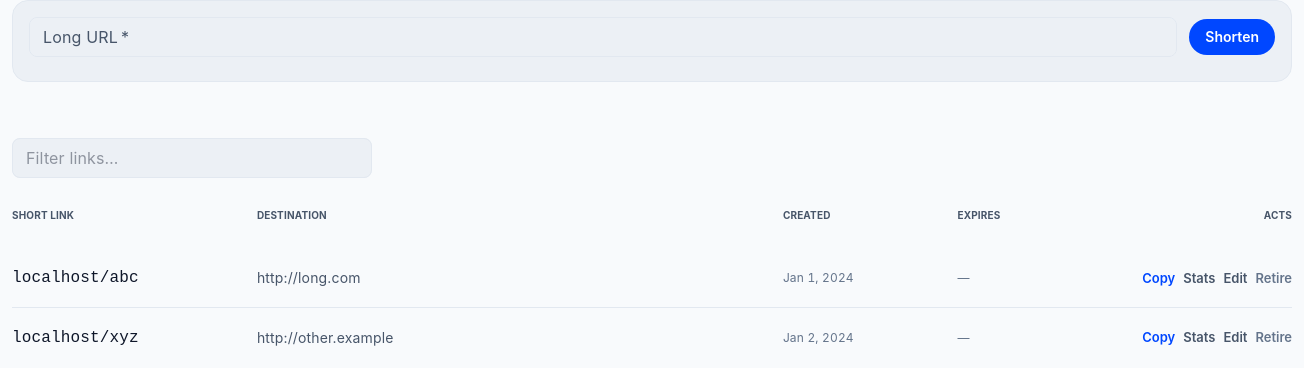
Test: DashboardPage › narrowing › narrows the set live as a fragment is entered, without a submit
Expected: the element with test id "link-row-abc" is shown, [12,265,1292,291]
Expected: the element with test id "link-row-xyz" is shown, [12,324,1292,351]
Type "LONG" into the field with test id "narrow-links".
click(192, 158); type("LONG")  # box [12,138,372,178]
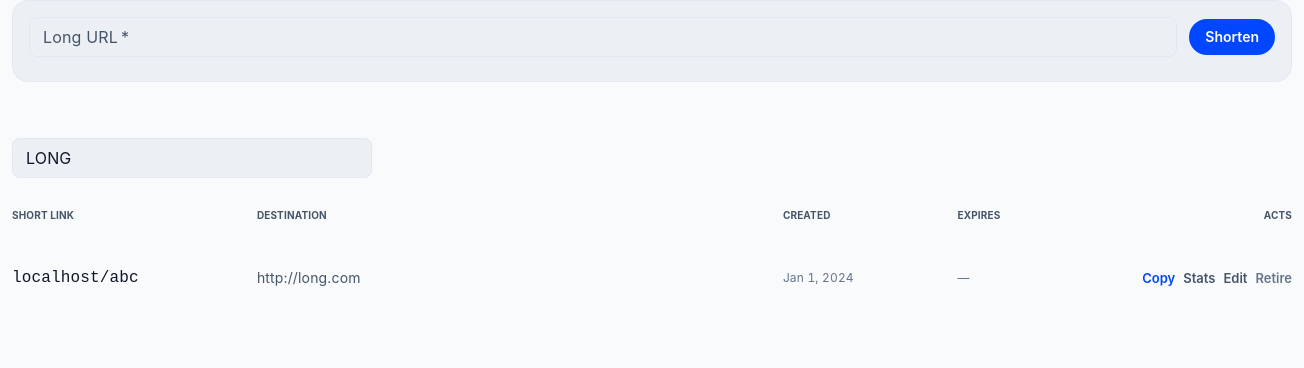
Expected: the element with test id "link-row-abc" is shown, [12,265,1292,291]
Expected: the element with test id "link-row-xyz" is gone
